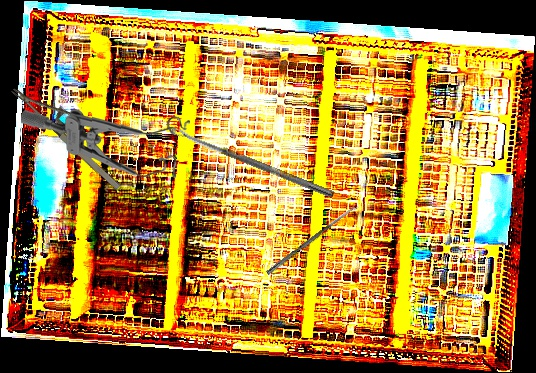Needle Holder: (11, 66, 138, 194)
Speculum: (20, 104, 193, 183)
Surgical Spoon: (170, 125, 336, 199), (265, 203, 360, 276)
